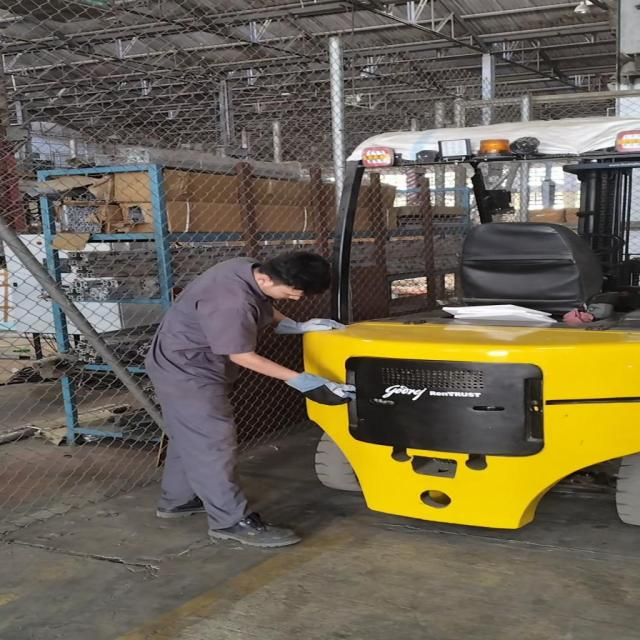Gloves-Detection: (282, 368, 349, 413), (272, 316, 330, 342)
